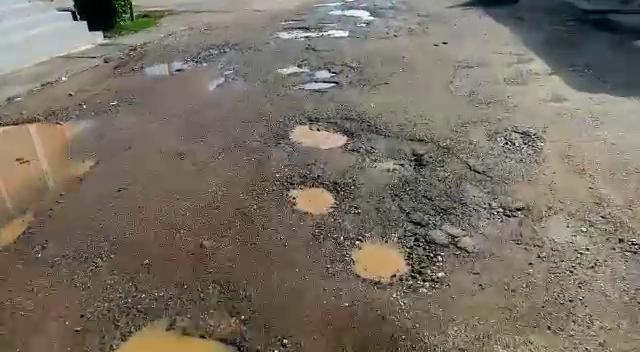pothole: (112, 316, 236, 351), (348, 235, 423, 284), (280, 118, 352, 152), (287, 181, 340, 216), (271, 25, 344, 39), (139, 61, 188, 78), (279, 63, 337, 77), (290, 78, 340, 92)
